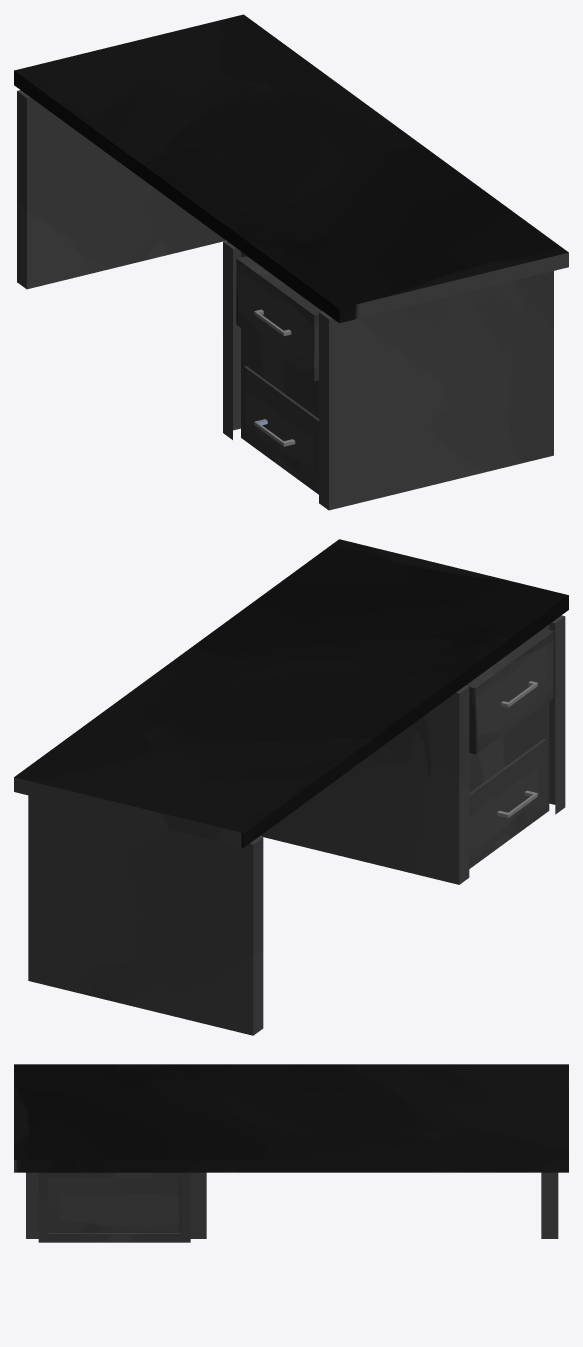
The model's file is escritorio.FBX.
The picture shows the model from 3 angles, top to bottom: view 1: azimuth 30°, elevation 25°; view 2: azimuth 150°, elevation 25°; view 3: azimuth 270°, elevation 25°; orthographic projection. The views are drawn at different scales.
Parts seen in each view (by area): view 1: Box006; view 2: Box006; view 3: Box006.
Boxes of the visible parts, bbox=[...] form: Box006: bbox=[14, 14, 568, 510]; Box006: bbox=[14, 539, 568, 1035]; Box006: bbox=[14, 1064, 568, 1242].
Bounding box in the file's own units: 25.42 × 20.71 × 59.21.
Materials: 1 (1 with a texture image).
